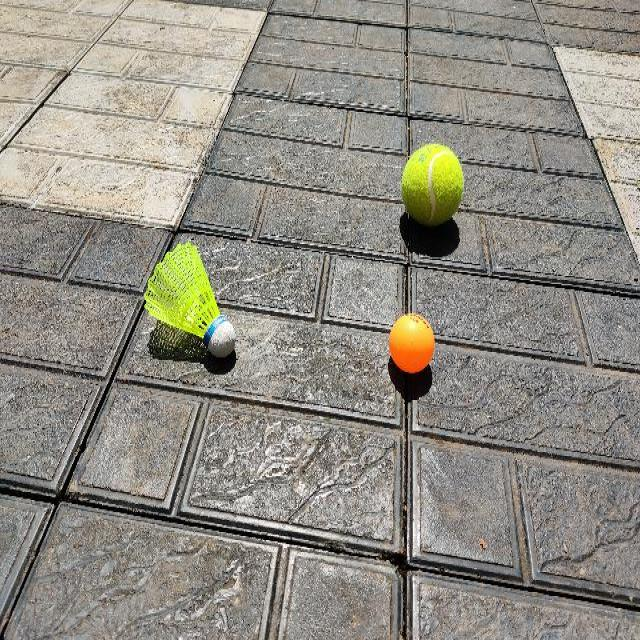ping-pong-ball: (388, 311, 436, 374)
